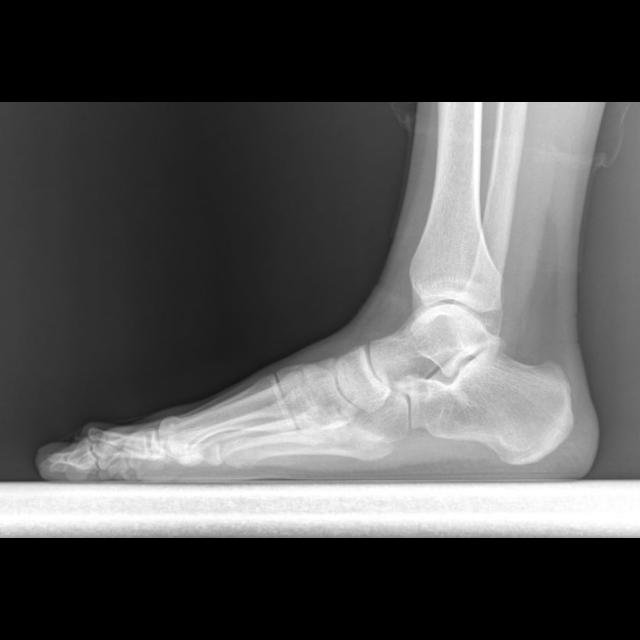a: (396, 348, 574, 464)
b: (335, 346, 391, 413)
c: (155, 372, 299, 468)
